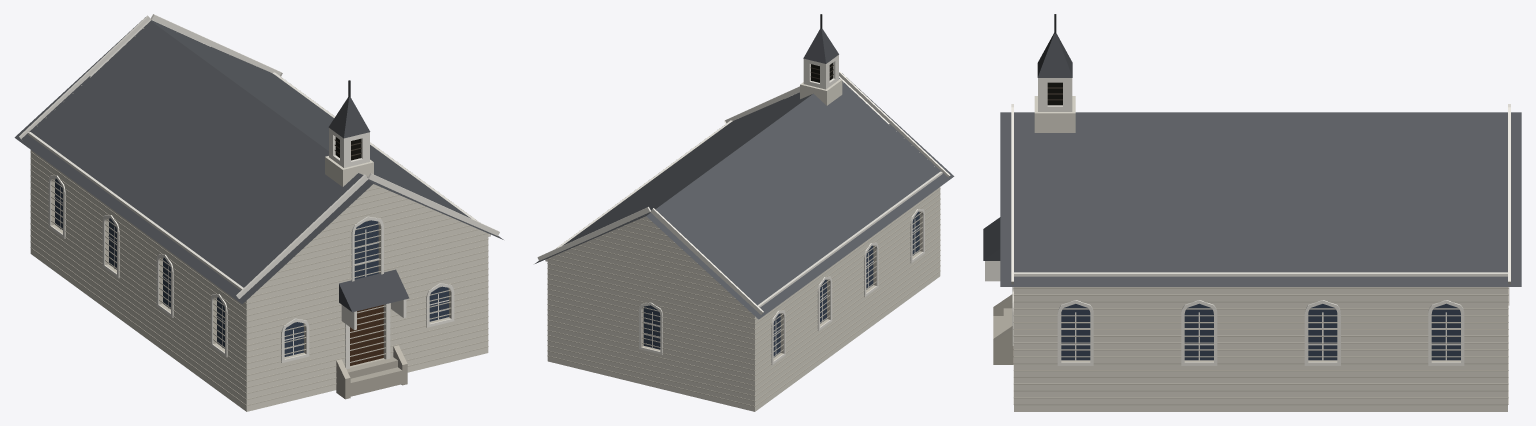
Rendered from ch-ward-chapel-1961.glb.
3 renders of one model, left to right at view 1: azimuth 30°, elevation 25°; view 2: azimuth 150°, elevation 25°; view 3: azimuth 270°, elevation 25°, orthographic. The views are drawn at different scales.
Visible parts, largest first — view 1: ch_roof, ch_brick, ch_brick2, ch_trim, ch_stain, ch_roof2, ch_conc, ch_door; view 2: ch_brick, ch_roof, ch_brick2, ch_trim, ch_stain, ch_roof2; view 3: ch_roof, ch_brick, ch_brick2, ch_trim, ch_stain, ch_roof2, ch_conc.
Part boxes in pixels (<box>): ch_roof: <box>14,17,503,304</box>; ch_brick: <box>30,150,488,411</box>; ch_brick2: <box>30,28,488,405</box>; ch_trim: <box>19,14,499,369</box>; ch_stain: <box>55,178,448,356</box>; ch_roof2: <box>328,97,409,312</box>; ch_conc: <box>336,345,407,399</box>; ch_door: <box>350,305,383,365</box>; ch_brick: <box>547,79,940,411</box>; ch_roof: <box>535,73,954,319</box>; ch_brick2: <box>547,82,940,406</box>; ch_trim: <box>537,55,950,364</box>; ch_stain: <box>643,211,919,357</box>; ch_roof2: <box>803,28,838,63</box>; ch_roof: <box>1000,112,1521,286</box>; ch_brick: <box>1014,96,1507,411</box>; ch_brick2: <box>1013,287,1508,405</box>; ch_trim: <box>985,78,1510,365</box>; ch_stain: <box>1061,303,1460,360</box>; ch_roof2: <box>983,33,1072,260</box>; ch_conc: <box>993,294,1013,364</box>.
Size of the model in its own units: 10.12 by 10.72 by 15.7.
